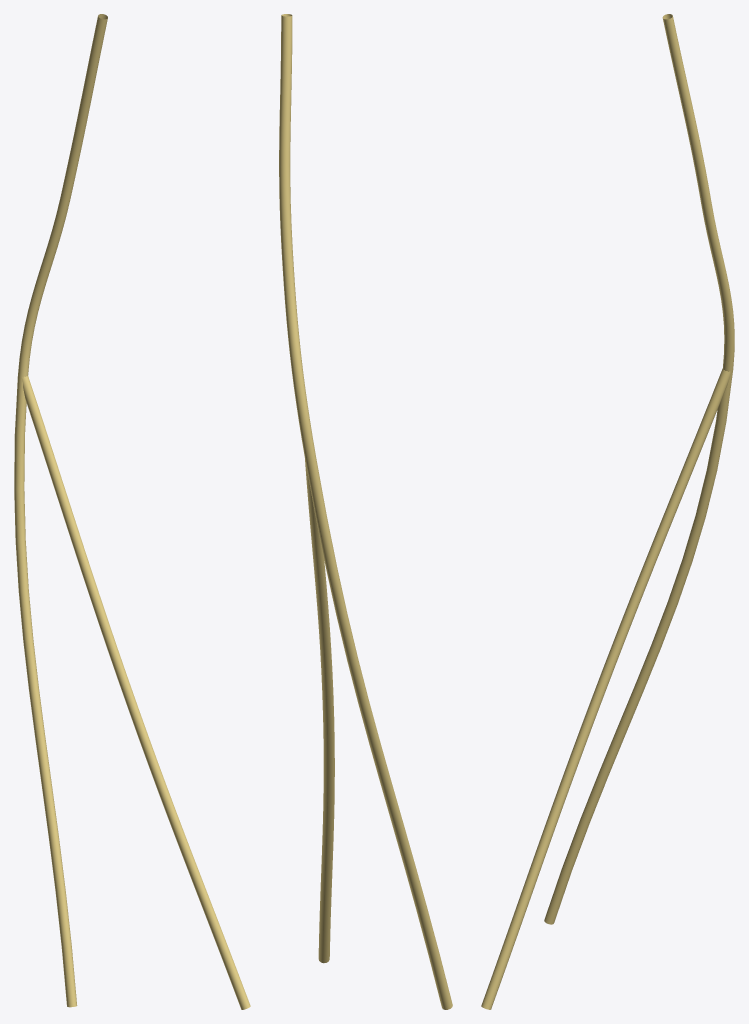
The picture shows the model from 3 angles, left to right: view 1: azimuth 30°, elevation 25°; view 2: azimuth 150°, elevation 25°; view 3: azimuth 270°, elevation 25°; orthographic projection. The views are drawn at different scales.
Visible parts, largest first — view 1: ZA_5eeb4ebd77356ee3; view 2: ZA_5eeb4ebd77356ee3; view 3: ZA_5eeb4ebd77356ee3.
Part boxes in pixels (x1,y1,x2,y2): ZA_5eeb4ebd77356ee3: [14, 14, 250, 1009]; ZA_5eeb4ebd77356ee3: [279, 14, 452, 1009]; ZA_5eeb4ebd77356ee3: [481, 14, 734, 1009].
Bounding box in the file's own units: 0.0171 × 0.1014 × 0.0241.
